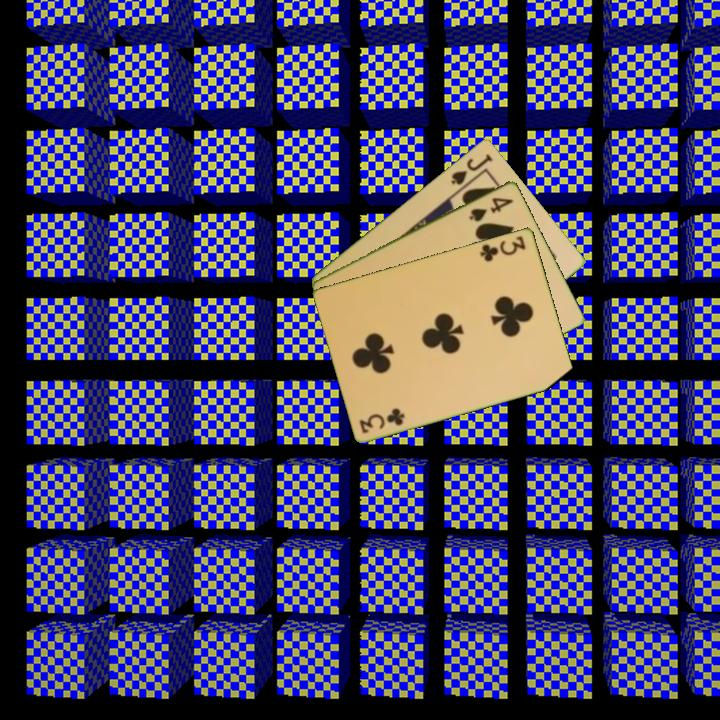3c: (476, 232, 529, 264), (356, 405, 408, 436)
4s: (466, 193, 517, 224)
Js: (447, 150, 496, 188)
